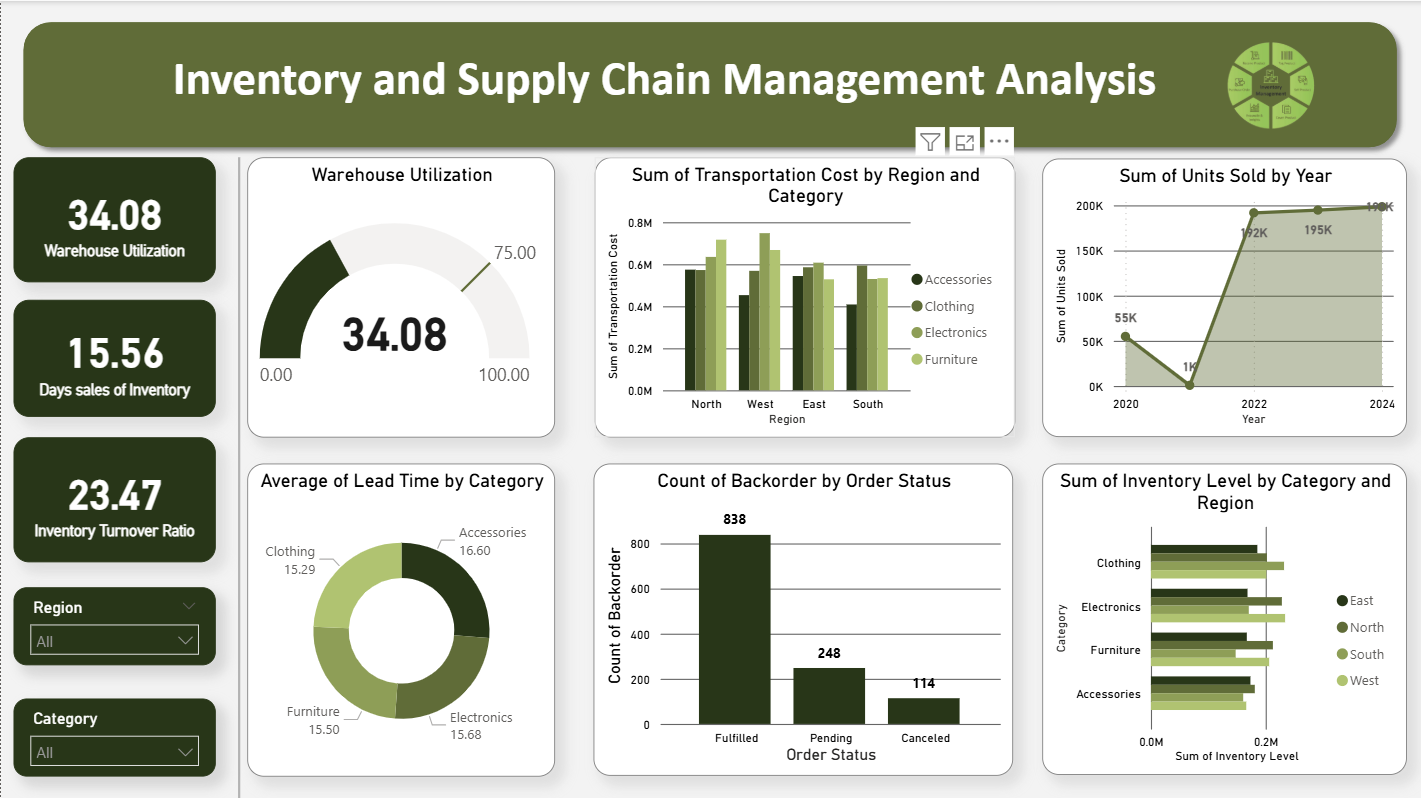

This screenshot's page, from the dashboard's own definition file:
{"tool":"powerbi","page":{"name":"Page 1","canvas":[1280,720],"ordinal":0},"visuals":[{"type":"shape","box":[11.8,10.3,1256.3,130.8],"z":0},{"type":"textbox","box":[133.7,38.2,928.7,74.9],"z":1000},{"type":"image","box":[1049.1,25,191,102.9],"z":2000},{"type":"shape","box":[207.2,141.1,14.7,578.9],"z":3000},{"type":"card","fields":{"Values":["Inventory and Supply Chain Dataset.Warehouse Utilization"]},"box":[11.8,141.1,182.2,113.1],"z":4000},{"type":"card","fields":{"Values":["Inventory and Supply Chain Dataset.Days sales of Inventory"]},"box":[11.8,268.9,182.2,105.8],"z":5000},{"type":"card","fields":{"Values":["Inventory and Supply Chain Dataset.Inventory Turnover Ratio"]},"box":[11.8,393.8,182.2,113.1],"z":6000},{"type":"slicer","fields":{"Values":["Inventory and Supply Chain Dataset.Region"]},"box":[11.8,529,182.2,70.5],"z":7000},{"type":"slicer","fields":{"Values":["Inventory and Supply Chain Dataset.Category"]},"box":[11.8,628.9,182.2,70.5],"z":8000},{"type":"gauge","fields":{"Y":["Inventory and Supply Chain Dataset.Warehouse Utilization"]},"box":[221.9,141.1,277.7,252.7],"z":9000},{"type":"clusteredColumnChart","fields":{"Y":["Sum(Inventory and Supply Chain Dataset.Transportation Cost)"],"Category":["Inventory and Supply Chain Dataset.Region"],"Series":["Inventory and Supply Chain Dataset.Category"]},"box":[534.9,141.1,379.1,252.7],"z":10000},{"type":"lineChart","fields":{"Y":["Sum(Inventory and Supply Chain Dataset.Units Sold)"],"Category":["Inventory and Supply Chain Dataset.Date.Variation.Date Hierarchy.Year"]},"box":[938.9,142.5,329.1,251.3],"z":11000},{"type":"donutChart","fields":{"Y":["Avg(Inventory and Supply Chain Dataset.Lead Time)"],"Category":["Inventory and Supply Chain Dataset.Category"]},"box":[221.9,417.3,277.7,282.1],"z":12000},{"type":"columnChart","fields":{"Y":["CountNonNull(Inventory and Supply Chain Dataset.Backorder)"],"Category":["Inventory and Supply Chain Dataset.Order Status"]},"box":[534.3,417.1,378.6,281.4],"z":13000},{"type":"clusteredBarChart","fields":{"Y":["Sum(Inventory and Supply Chain Dataset.Inventory Level)"],"Category":["Inventory and Supply Chain Dataset.Category"],"Series":["Inventory and Supply Chain Dataset.Region"]},"box":[939,417,329,281],"z":14000}]}

Visuals, with their boxes in screenshot pixels (x1, y1, x2, y2), scaled from the page's 1280x720 canvas onto the 1421x798 screenshot:
shape: 13, 11, 1408, 156
textbox: 148, 42, 1179, 125
image: 1165, 28, 1377, 142
shape: 230, 156, 246, 797
card - Inventory and Supply Chain Dataset.Warehouse Utilization: 13, 156, 215, 282
card - Inventory and Supply Chain Dataset.Days sales of Inventory: 13, 298, 215, 415
card - Inventory and Supply Chain Dataset.Inventory Turnover Ratio: 13, 436, 215, 562
slicer - Inventory and Supply Chain Dataset.Region: 13, 586, 215, 664
slicer - Inventory and Supply Chain Dataset.Category: 13, 697, 215, 775
gauge - Inventory and Supply Chain Dataset.Warehouse Utilization: 246, 156, 555, 436
clusteredColumnChart - Sum(Inventory and Supply Chain Dataset.Transportation Cost) x Inventory and Supply Chain Dataset.Region: 594, 156, 1015, 436
lineChart - Sum(Inventory and Supply Chain Dataset.Units Sold) x Inventory and Supply Chain Dataset.Date.Variation.Date Hierarchy.Year: 1042, 158, 1408, 436
donutChart - Avg(Inventory and Supply Chain Dataset.Lead Time) x Inventory and Supply Chain Dataset.Category: 246, 463, 555, 775
columnChart - CountNonNull(Inventory and Supply Chain Dataset.Backorder) x Inventory and Supply Chain Dataset.Order Status: 593, 462, 1013, 774
clusteredBarChart - Sum(Inventory and Supply Chain Dataset.Inventory Level) x Inventory and Supply Chain Dataset.Category: 1042, 462, 1408, 774
